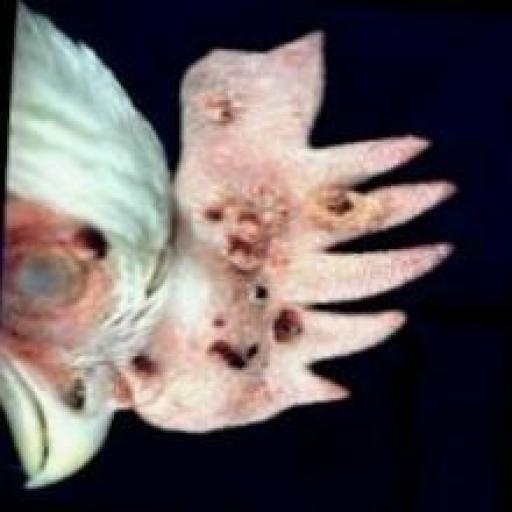disease: (194, 179, 292, 265), (310, 182, 390, 248), (197, 311, 266, 376), (239, 282, 307, 338), (124, 342, 194, 394), (70, 216, 131, 270), (191, 86, 250, 139)
